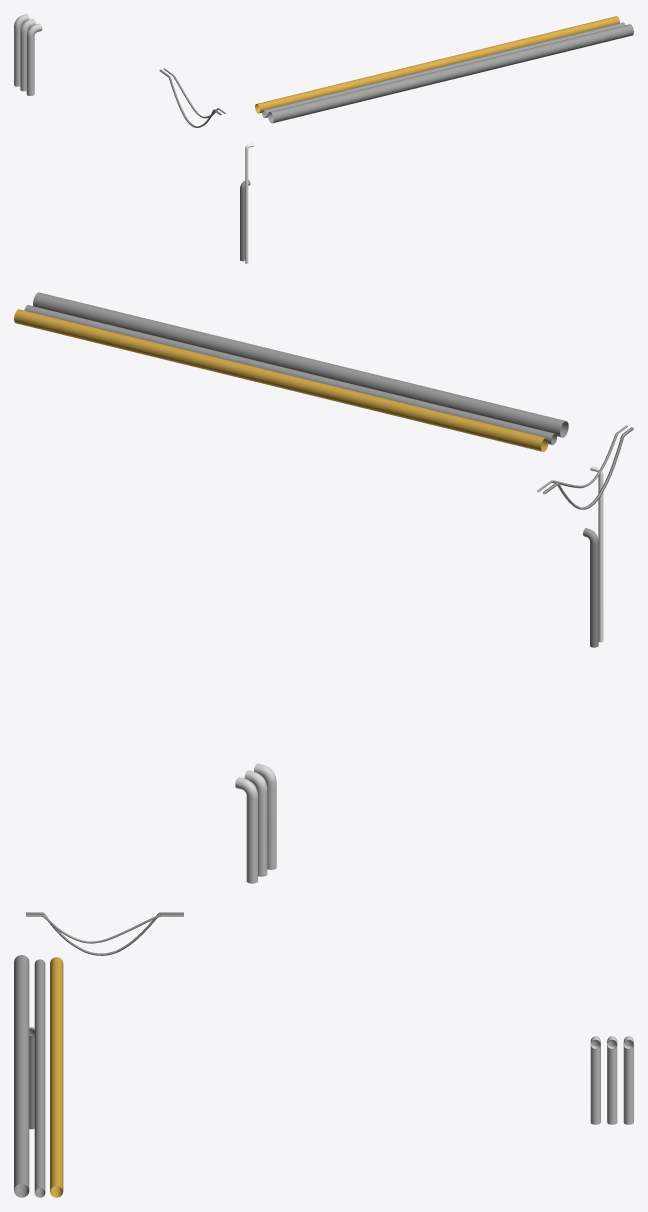
3 renders of one model, top to bottom at view 1: azimuth 30°, elevation 25°; view 2: azimuth 150°, elevation 25°; view 3: azimuth 270°, elevation 25°, orthographic. The views are drawn at different scales.
Visible parts, largest first — view 1: SM_I_RoadFacility_Ground_L_11B; view 2: SM_I_RoadFacility_Ground_L_11B; view 3: SM_I_RoadFacility_Ground_L_11B.
Boxes of the visible parts, x1,y1,x2,y2 form: SM_I_RoadFacility_Ground_L_11B: (14,14,633,263); SM_I_RoadFacility_Ground_L_11B: (14,292,633,883); SM_I_RoadFacility_Ground_L_11B: (14,912,633,1197).
Size of the model in its own units: 792 by 786 by 283.
